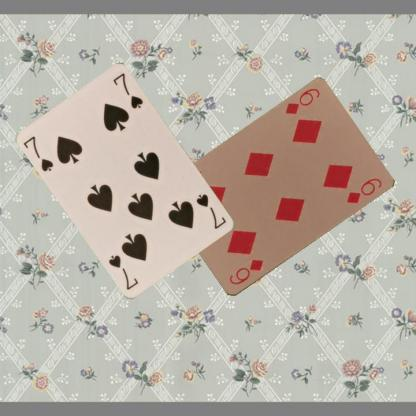6d: (226, 256, 266, 287), (282, 85, 322, 116)
7s: (20, 132, 56, 174), (193, 191, 228, 231)
